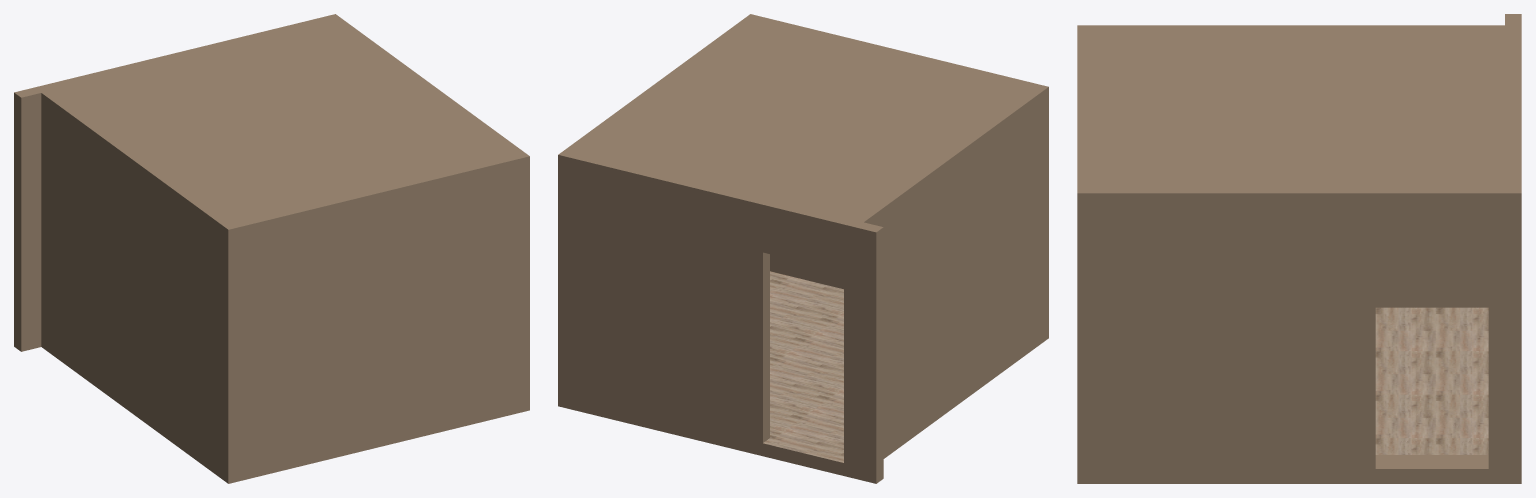
File: cocukOdasi.fbx
3 renders of one model, left to right at view 1: azimuth 30°, elevation 25°; view 2: azimuth 150°, elevation 25°; view 3: azimuth 270°, elevation 25°, orthographic. The views are drawn at different scales.
Parts seen in each view (by area): view 1: Cube; view 2: Cube; view 3: Cube.
Boxes of the visible parts, box(x1,y1,x2,y2) form: Cube: box(14, 14, 529, 483); Cube: box(558, 14, 1048, 483); Cube: box(1077, 14, 1521, 483).
Bounding box in the file's own units: 384 × 290 × 402.
1 material, 1 textured.
